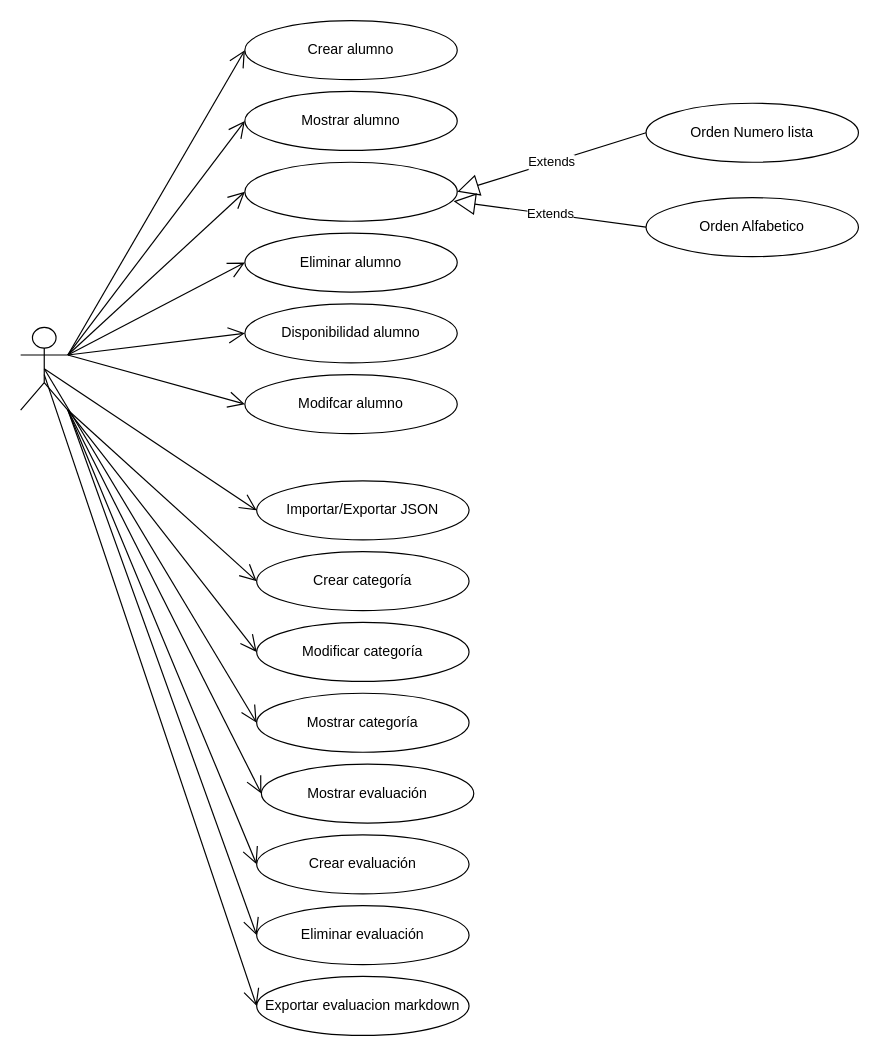
This 879x1056 diagram has some shape labels left out. Each missing label, with the centre of its shape:
Actor: the point at 43,368
Mostrar alumnos: the point at 350,191
